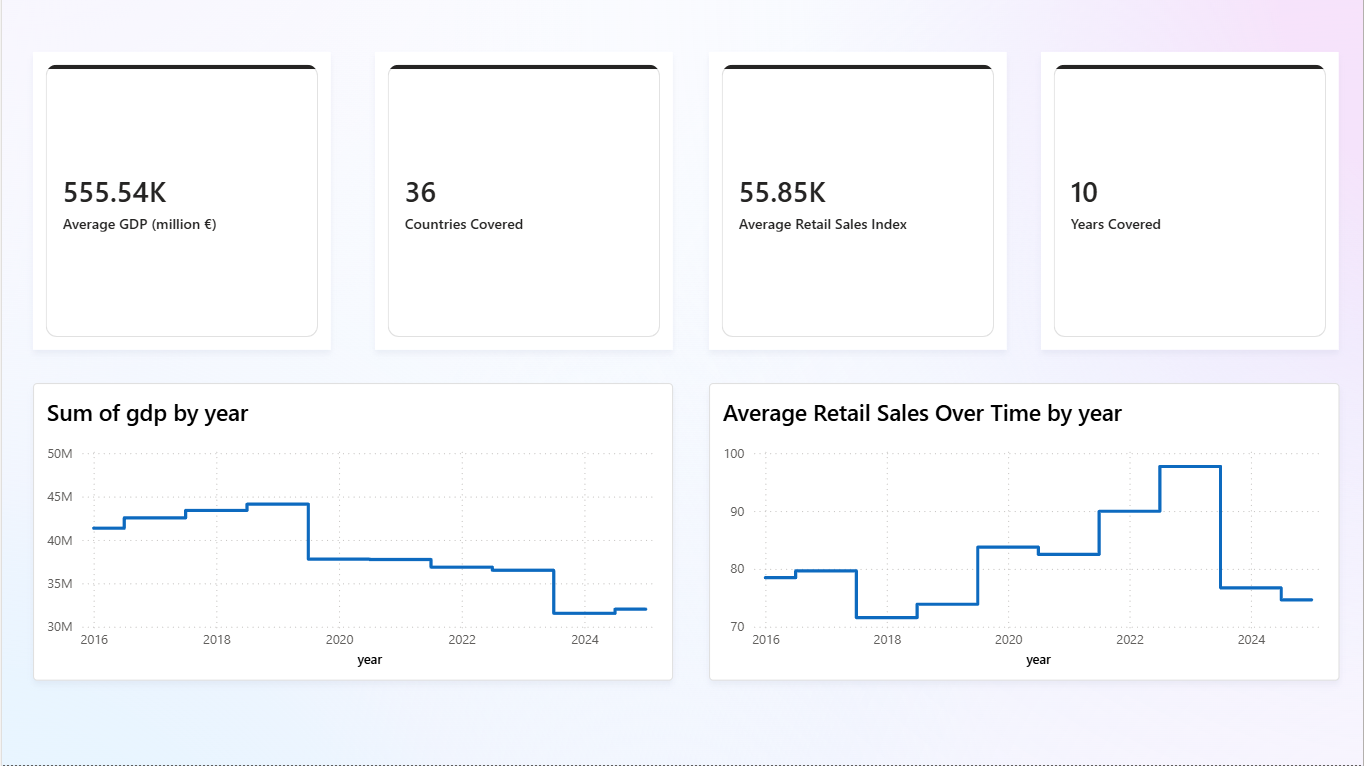

The dashboard page shown, as its layout file describes it:
{"tool":"powerbi","page":{"name":"Overview","canvas":[1280,720],"ordinal":0},"visuals":[{"type":"cardVisual","fields":{"Data":["Avg(final_dataset.gdp)"]},"box":[28.7,49.1,280,280],"z":0},{"type":"cardVisual","fields":{"Data":["Sum(final_dataset.sales_value)"]},"box":[664.5,49.1,280,280],"z":1000},{"type":"cardVisual","fields":{"Data":["Count(final_dataset.country)"]},"box":[350.8,49.1,280,280],"z":2000},{"type":"cardVisual","fields":{"Data":["Count(final_dataset.year)"]},"box":[977.1,49.1,280,280],"z":3000},{"type":"lineChart","fields":{"Category":["final_dataset.year"],"Y":["Sum(final_dataset.gdp)"]},"box":[28.7,360.4,602.3,280.2],"z":4000},{"type":"lineChart","fields":{"Category":["final_dataset.year"],"Y":["Avg(final_dataset.sales_value)"]},"box":[664.5,360.4,592.7,280.2],"z":5000}]}

Visuals, with their boxes in screenshot pixels (x1, y1, x2, y2), scaled from the page's 1280x720 canvas onto the 1364x766 screenshot:
cardVisual - Avg(final_dataset.gdp): crop(31, 52, 329, 350)
cardVisual - Sum(final_dataset.sales_value): crop(708, 52, 1006, 350)
cardVisual - Count(final_dataset.country): crop(374, 52, 672, 350)
cardVisual - Count(final_dataset.year): crop(1041, 52, 1340, 350)
lineChart - final_dataset.year x Sum(final_dataset.gdp): crop(31, 383, 672, 682)
lineChart - final_dataset.year x Avg(final_dataset.sales_value): crop(708, 383, 1340, 682)
